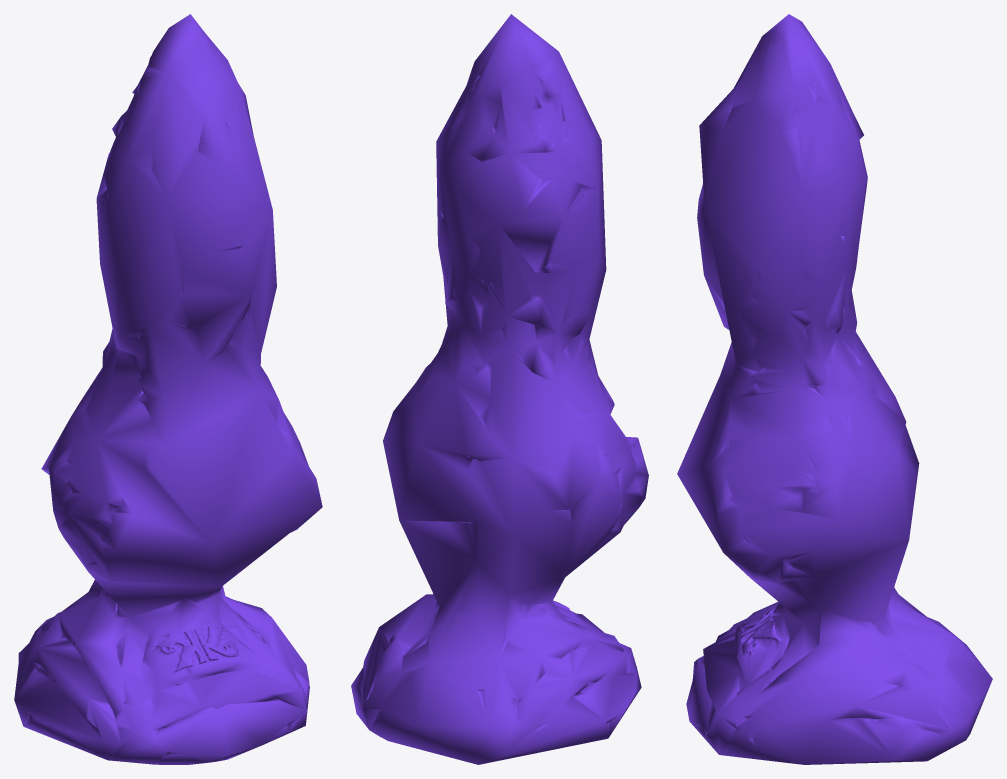
Rendered from large-flat-ar.glb.
3 renders of one model, left to right at view 1: azimuth 30°, elevation 25°; view 2: azimuth 150°, elevation 25°; view 3: azimuth 270°, elevation 25°, orthographic. The views are drawn at different scales.
Bounding box in the file's own units: 0.0911 × 0.2348 × 0.0957.
